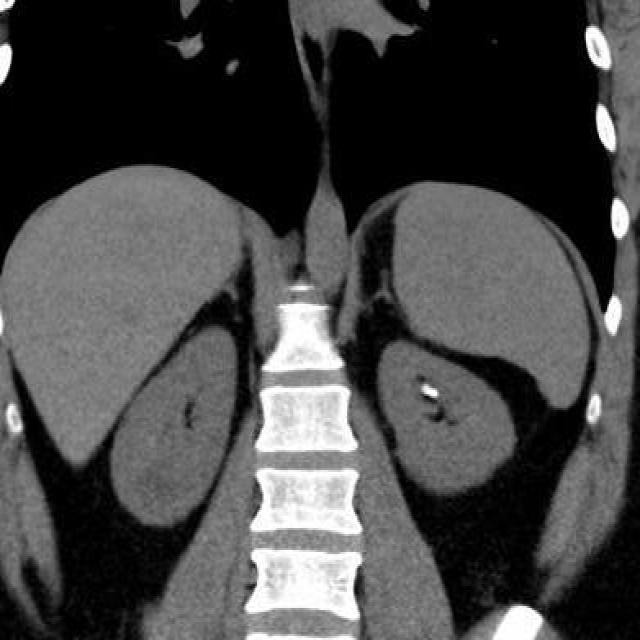Tas_Var: (425, 388, 439, 398), (422, 382, 429, 392)
